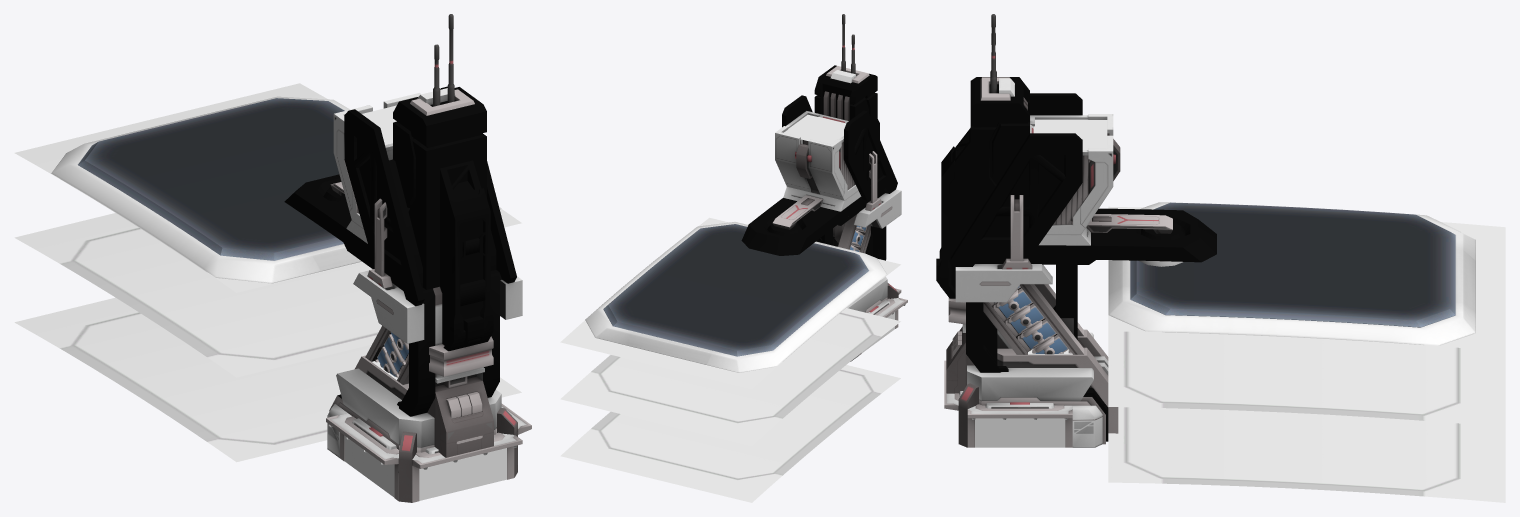
Rendered from mining-drill-mk2.glb.
3 renders of one model, left to right at view 1: azimuth 30°, elevation 25°; view 2: azimuth 150°, elevation 25°; view 3: azimuth 270°, elevation 25°, orthographic. The views are drawn at different scales.
Parts seen in each view (by area): view 1: mining-drill-mk2, mining-drill-mk2-effect-1, mining-drill-mk2-effect, mining-drill-mk2-mask, mining-drill-mk2-b; view 2: mining-drill-mk2-effect-1, mining-drill-mk2, mining-drill-mk2-effect, mining-drill-mk2-mask; view 3: mining-drill-mk2-effect-1, mining-drill-mk2, mining-drill-mk2-effect, mining-drill-mk2-mask, mining-drill-mk2-a.
Boxes of the visible parts, x1,y1,x2,y2 form: mining-drill-mk2: (51, 14, 531, 502); mining-drill-mk2-effect-1: (14, 83, 521, 462); mining-drill-mk2-effect: (78, 98, 344, 260); mining-drill-mk2-mask: (344, 105, 506, 500); mining-drill-mk2-b: (375, 332, 408, 377); mining-drill-mk2-effect-1: (560, 217, 900, 502); mining-drill-mk2: (585, 14, 907, 372); mining-drill-mk2-effect: (603, 224, 868, 356); mining-drill-mk2-mask: (784, 114, 895, 352); mining-drill-mk2-effect-1: (1108, 206, 1505, 502); mining-drill-mk2: (936, 14, 1475, 447); mining-drill-mk2-effect: (1130, 202, 1455, 327); mining-drill-mk2-mask: (975, 119, 1107, 447); mining-drill-mk2-a: (989, 285, 1071, 354).
Size of the model in its own units: 12 by 19.3 by 23.19.
4 materials, 3 textured.
